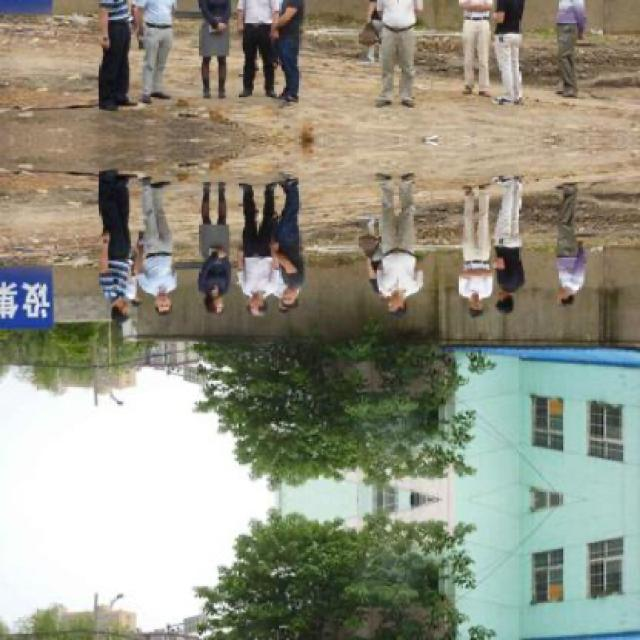sin casco: (339, 268, 432, 310), (248, 266, 304, 310), (528, 272, 582, 314), (172, 280, 228, 317), (94, 306, 145, 325), (472, 285, 491, 331), (494, 289, 536, 308), (230, 294, 254, 310), (160, 284, 172, 306)
